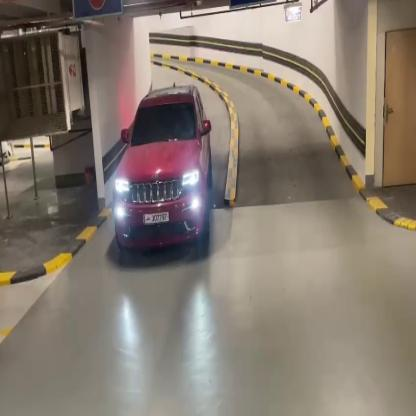np: (142, 212, 170, 226)
